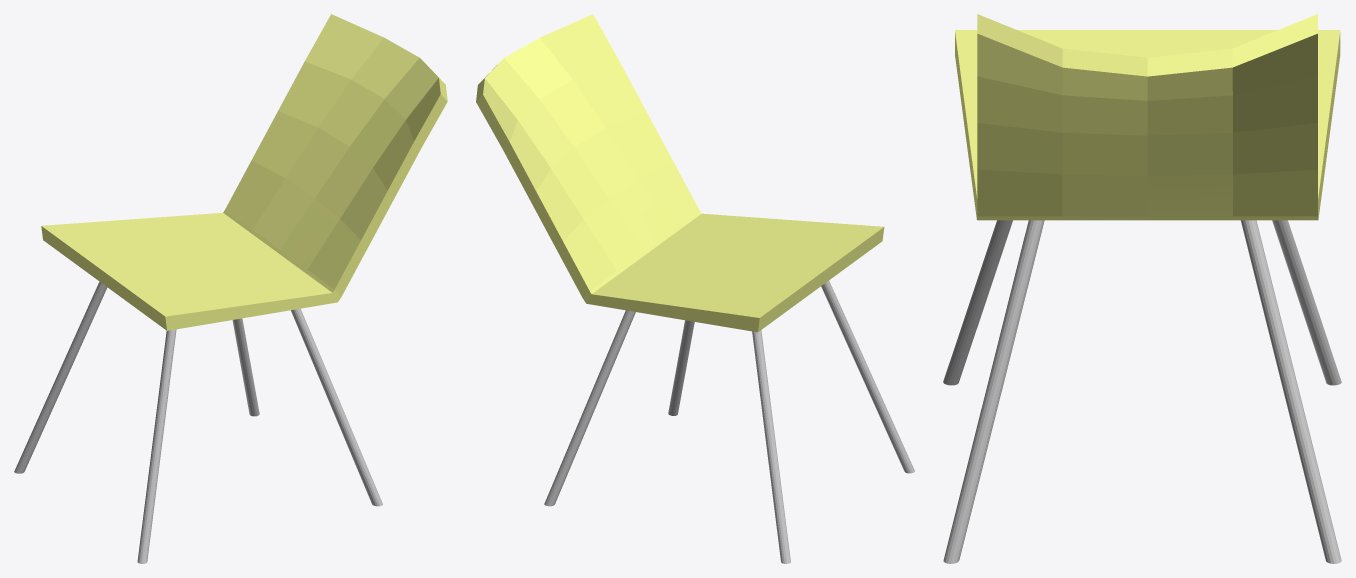
The model's file is Chair.fbx.
The picture shows the model from 3 angles, left to right: view 1: azimuth 30°, elevation 25°; view 2: azimuth 150°, elevation 25°; view 3: azimuth 270°, elevation 25°; orthographic projection. The views are drawn at different scales.
Parts seen in each view (by area): view 1: seat, frame.001; view 2: seat, frame.001; view 3: seat, frame.001.
Part boxes in pixels (x1=…): seat: x1=41, y1=14, x2=447, y2=330; frame.001: x1=14, y1=281, x2=382, y2=563; seat: x1=476, y1=14, x2=884, y2=332; frame.001: x1=544, y1=280, x2=914, y2=563; seat: x1=955, y1=14, x2=1340, y2=220; frame.001: x1=943, y1=220, x2=1341, y2=563.
Bounding box in the file's own units: 433 × 454 × 273.
